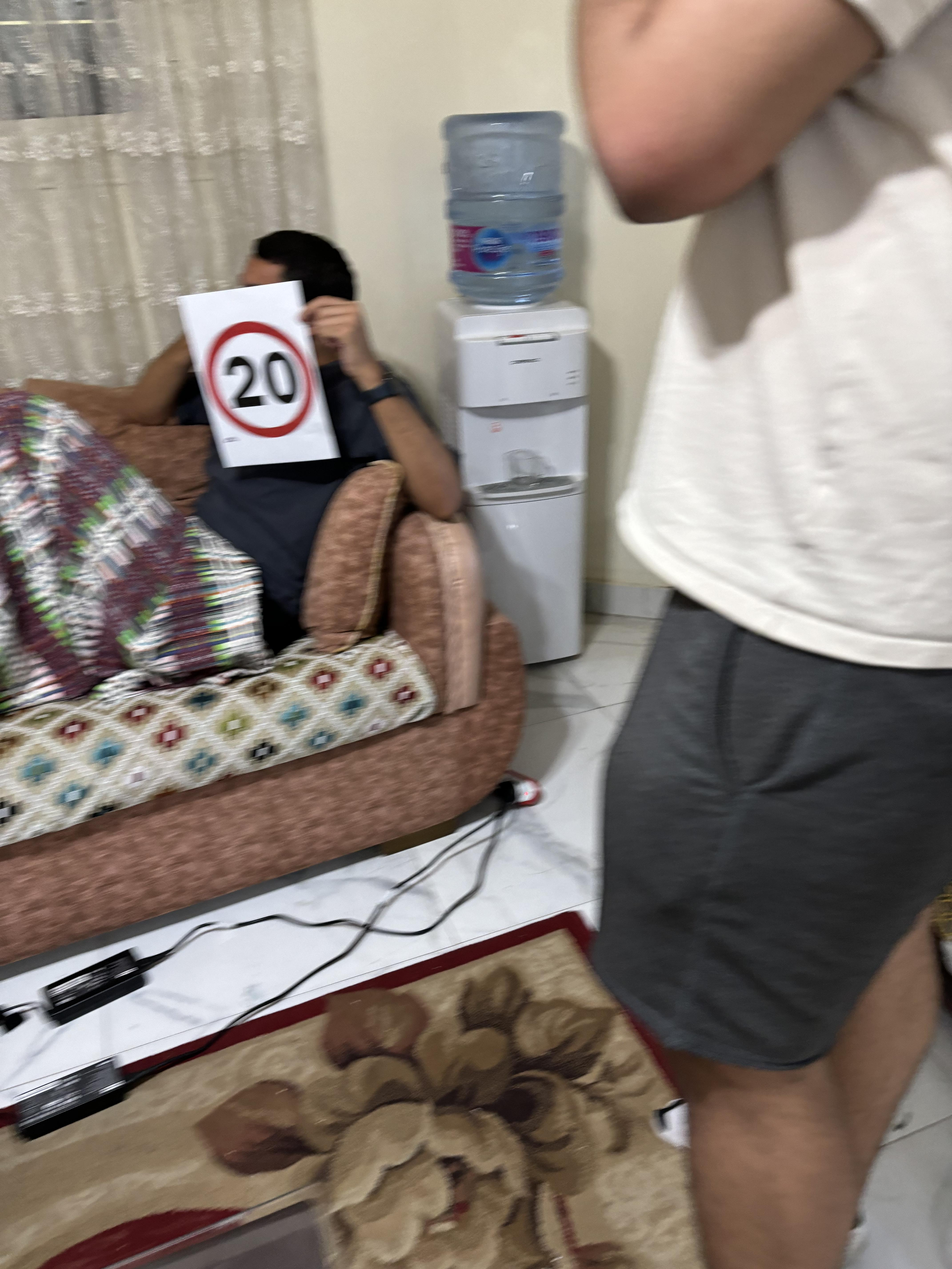20-Speed: (202, 314, 323, 440)
